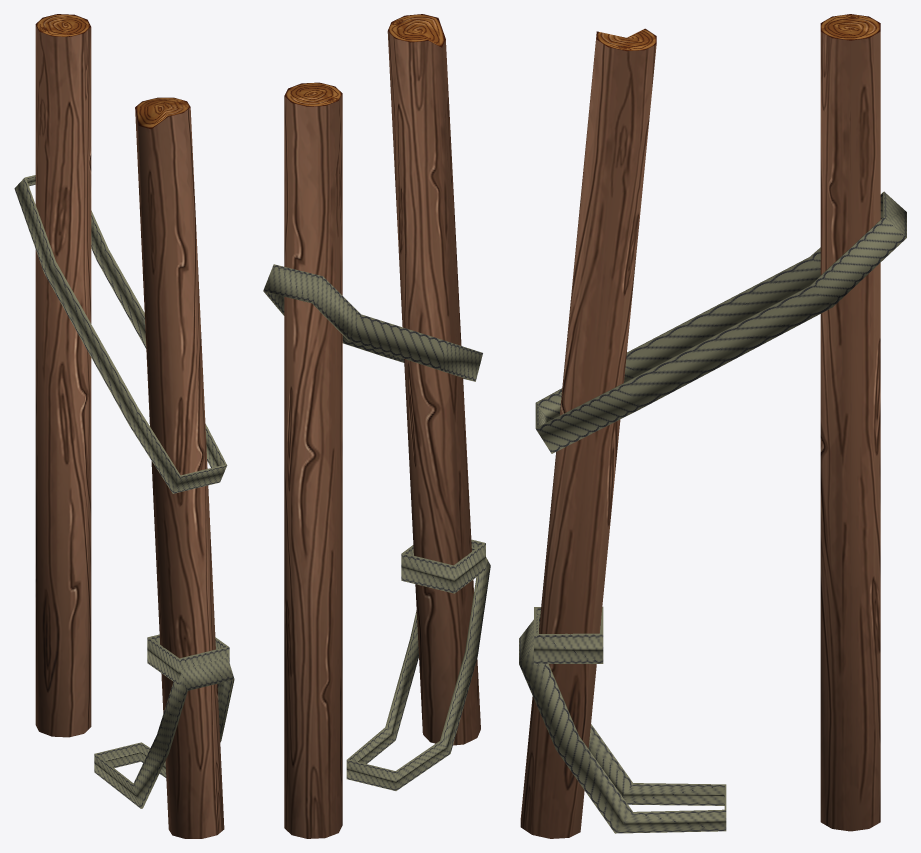
The model's file is Fence_1.fbx.
3 renders of one model, left to right at view 1: azimuth 30°, elevation 25°; view 2: azimuth 150°, elevation 25°; view 3: azimuth 270°, elevation 25°, orthographic. The views are drawn at different scales.
Visible parts, largest first — view 1: Fence_1; view 2: Fence_1; view 3: Fence_1.
Boxes of the visible parts, bbox=[...] form: Fence_1: bbox=[14, 14, 234, 838]; Fence_1: bbox=[263, 14, 490, 838]; Fence_1: bbox=[519, 14, 906, 838].
Bounding box in the file's own units: 0.4538 × 5.59 × 2.45.
